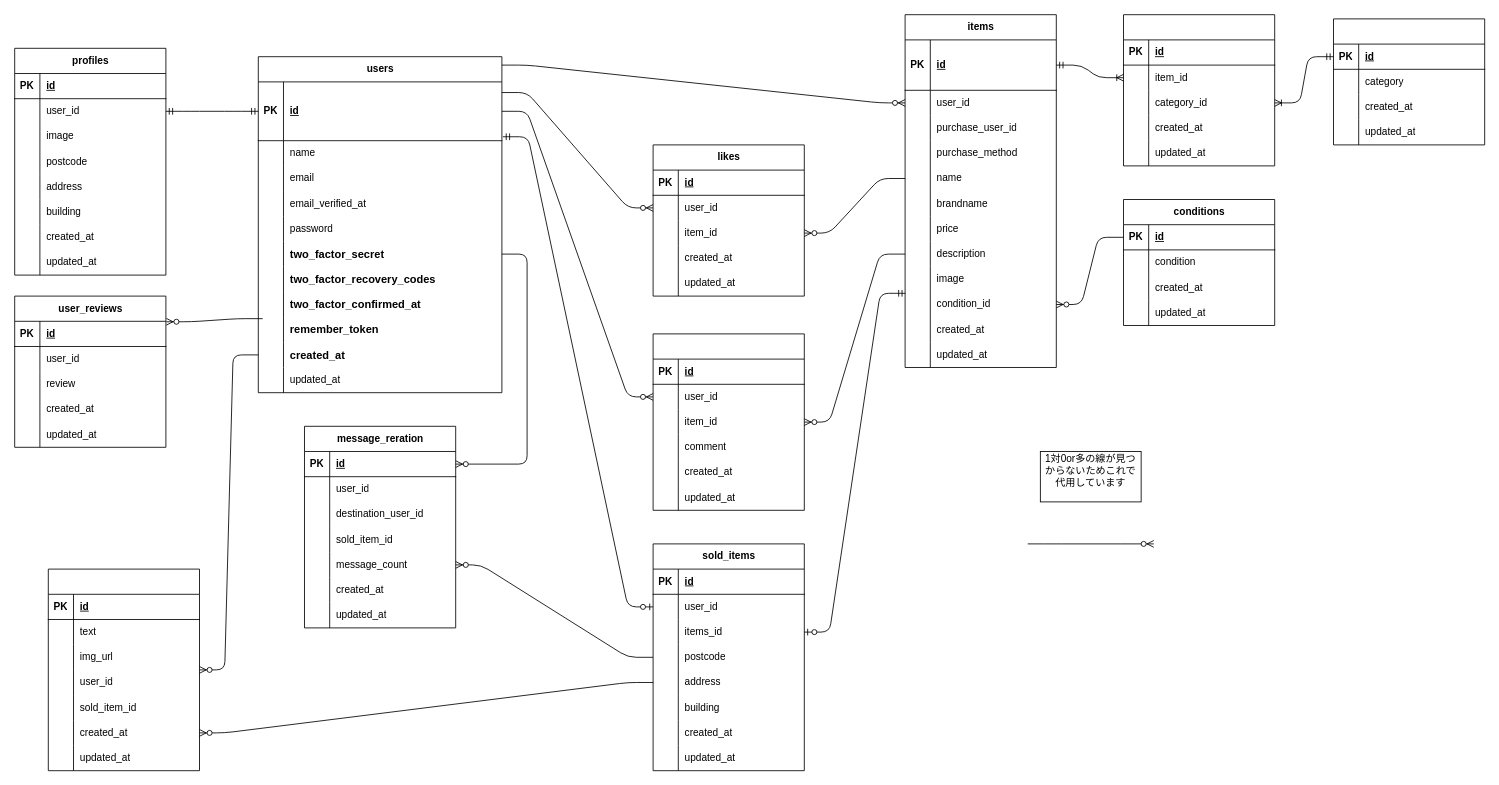
Image size: 1499x785. Some labels were removed from this diagram. Here are the shapes that lost their labels. From the top down, the box of each, then its label:
(1123, 14, 1275, 166): Item_Category
(1333, 18, 1485, 145): categories
(652, 333, 804, 510): comments
(47, 568, 200, 771): messages
